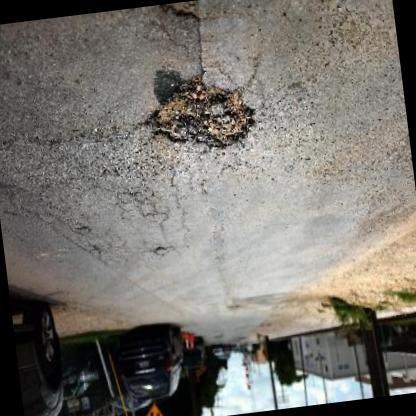pothole: (142, 73, 258, 158), (160, 1, 202, 29)
